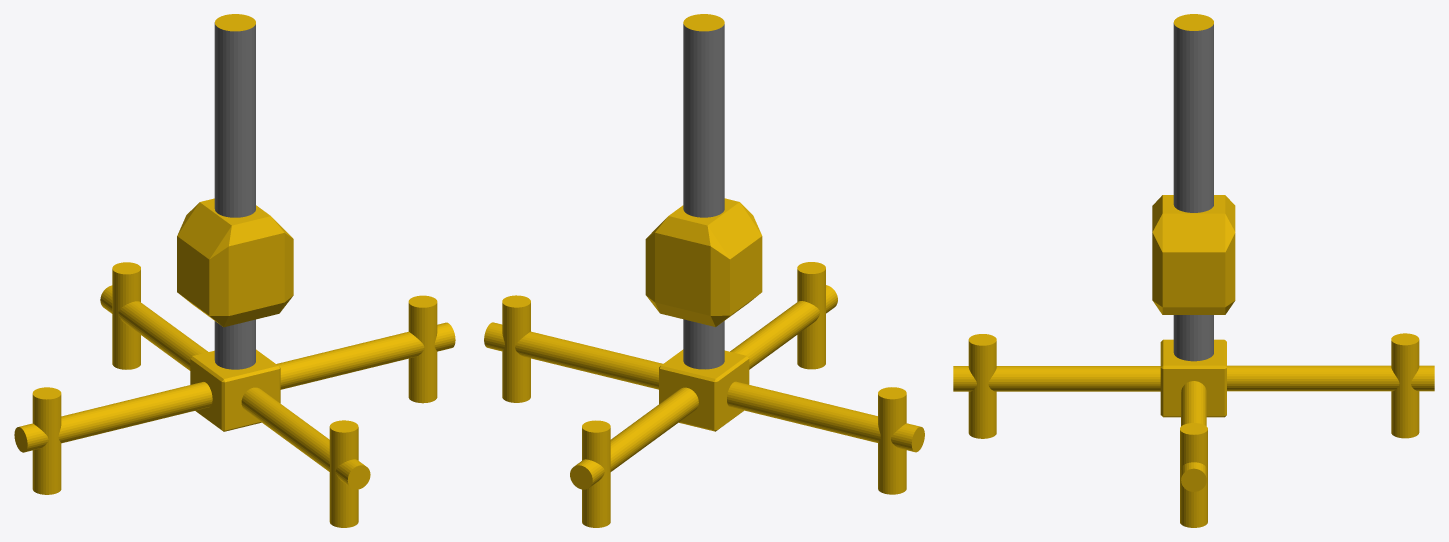
The model's file is CityTrafficLightJoint.fbx.
The picture shows the model from 3 angles, left to right: view 1: azimuth 30°, elevation 25°; view 2: azimuth 150°, elevation 25°; view 3: azimuth 270°, elevation 25°; orthographic projection. The views are drawn at different scales.
Visible parts, largest first — view 1: 円柱.001; view 2: 円柱.001; view 3: 円柱.001.
Boxes of the visible parts, <box> form: 円柱.001: <box>14,14,455,527</box>; 円柱.001: <box>484,14,924,527</box>; 円柱.001: <box>953,14,1434,527</box>.
Bounding box in the file's own units: 318 × 298 × 317.
